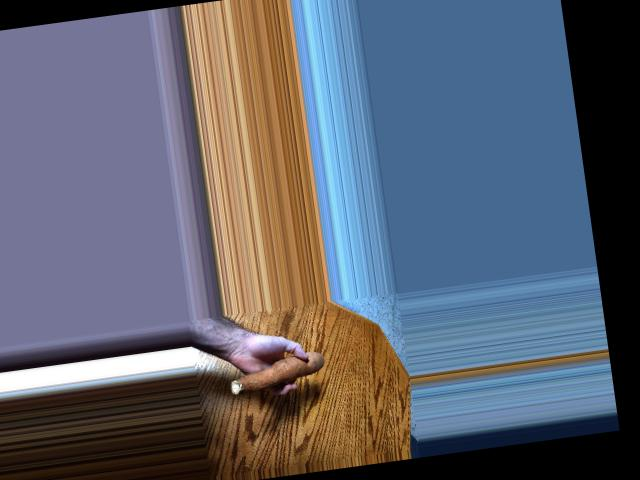sweet_potato: (220, 354, 331, 398)
